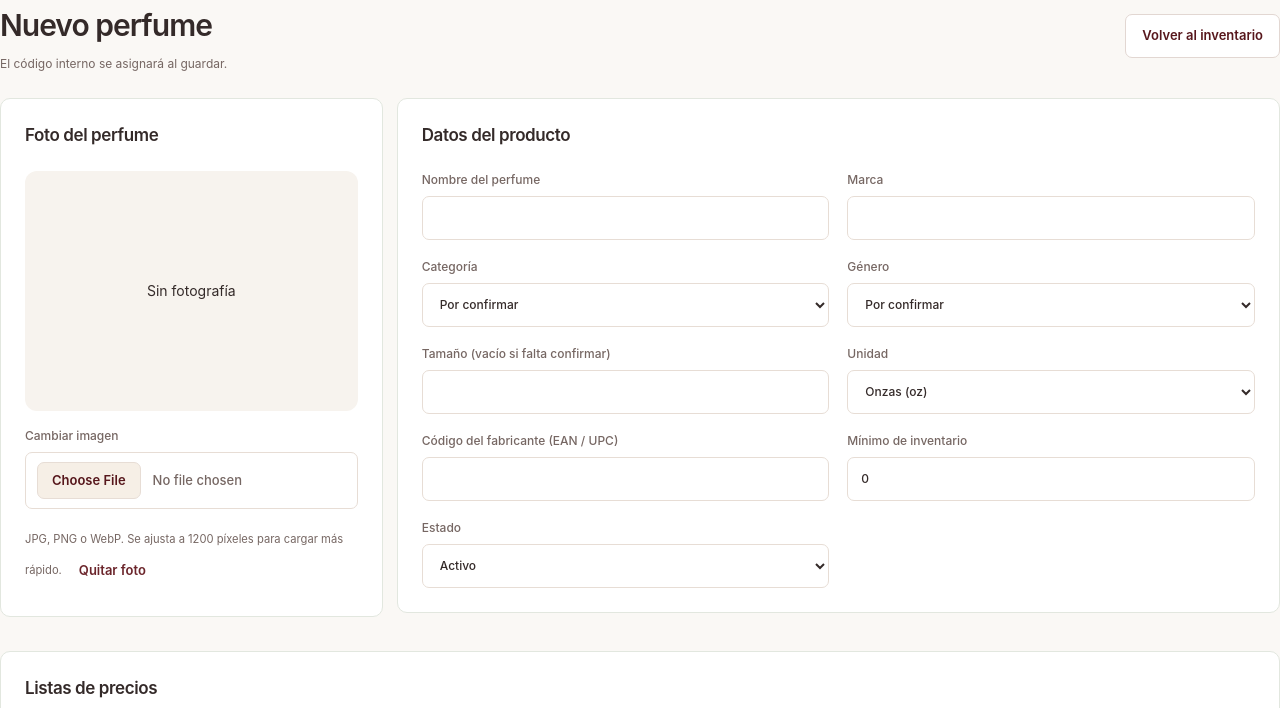
Test case: reloads a newly saved perfume and opens its quantities without a page refresh
This screenshot has width=1280, height=708.
Type "Perfume nuevo" into the field labelled "Nombre del perfume".
click(626, 218); type("Perfume nuevo")  # box x1=422 y1=196 x2=829 y2=240
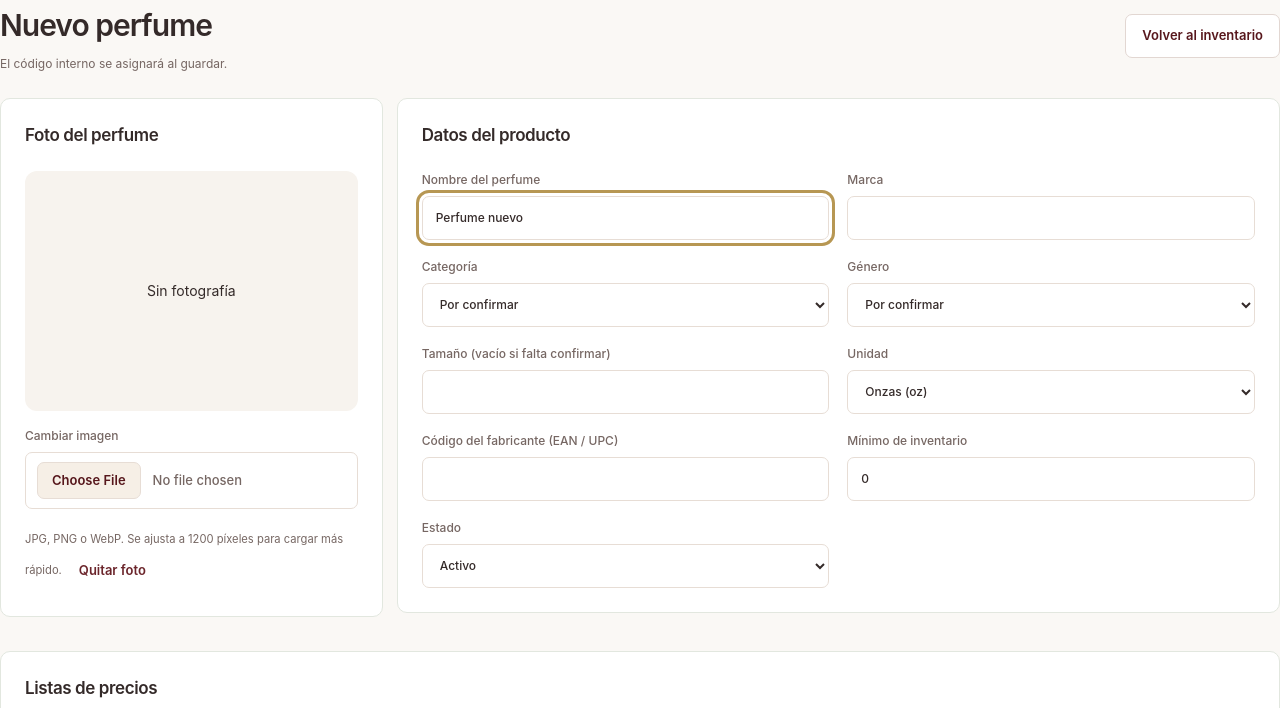
Type "Marca nueva" into the field labelled "Marca".
click(1051, 218); type("Marca nueva")  # box x1=847 y1=196 x2=1255 y2=240
(page scrolled)
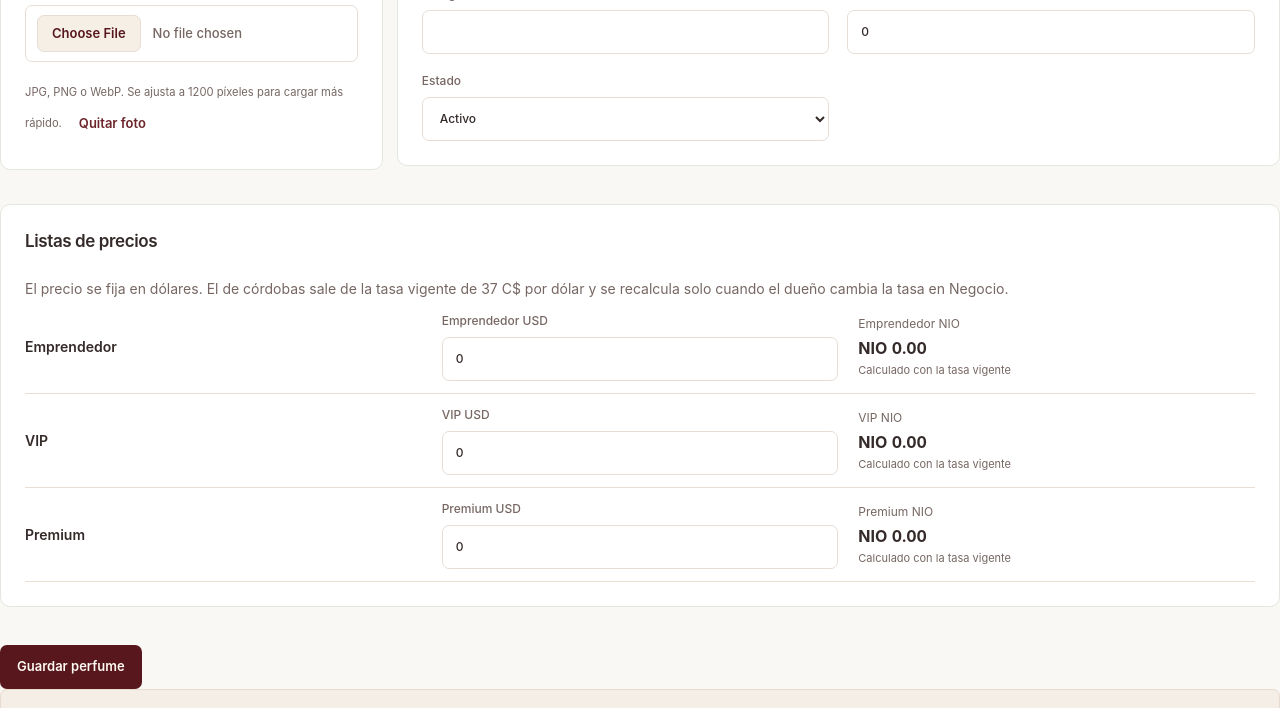
Replace the text in the number field labelled "Emprendedor USD" with "20" at (640,359), box x1=442 y1=337 x2=838 y2=381
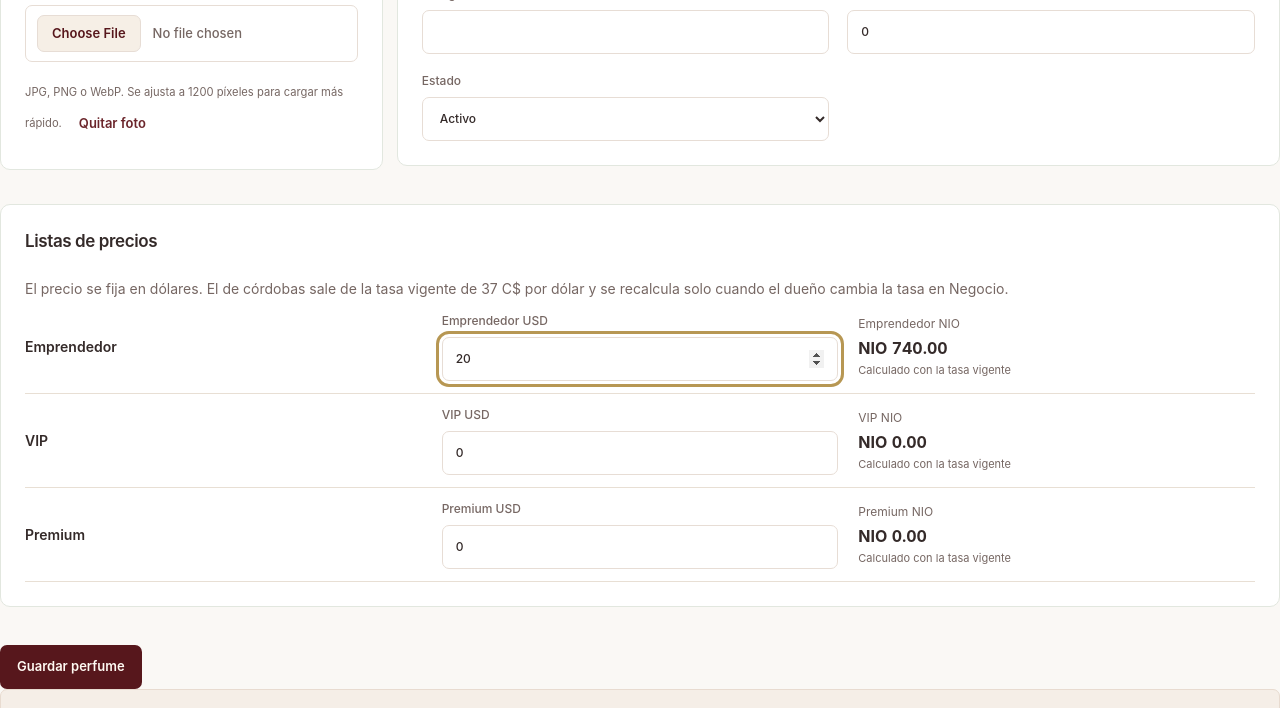
Replace the text in the number field labelled "VIP USD" with "20" at (640,453), box x1=442 y1=431 x2=838 y2=475
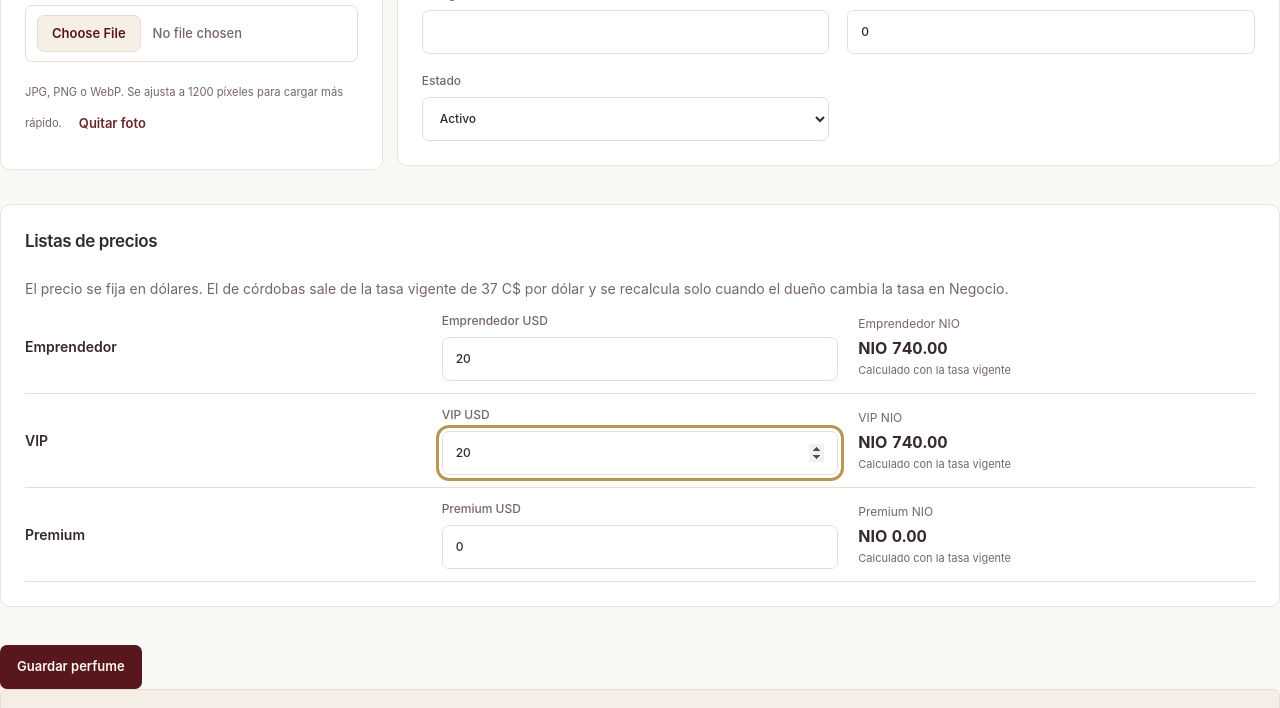
Replace the text in the number field labelled "Premium USD" with "20" at (640,547), box x1=442 y1=525 x2=838 y2=569
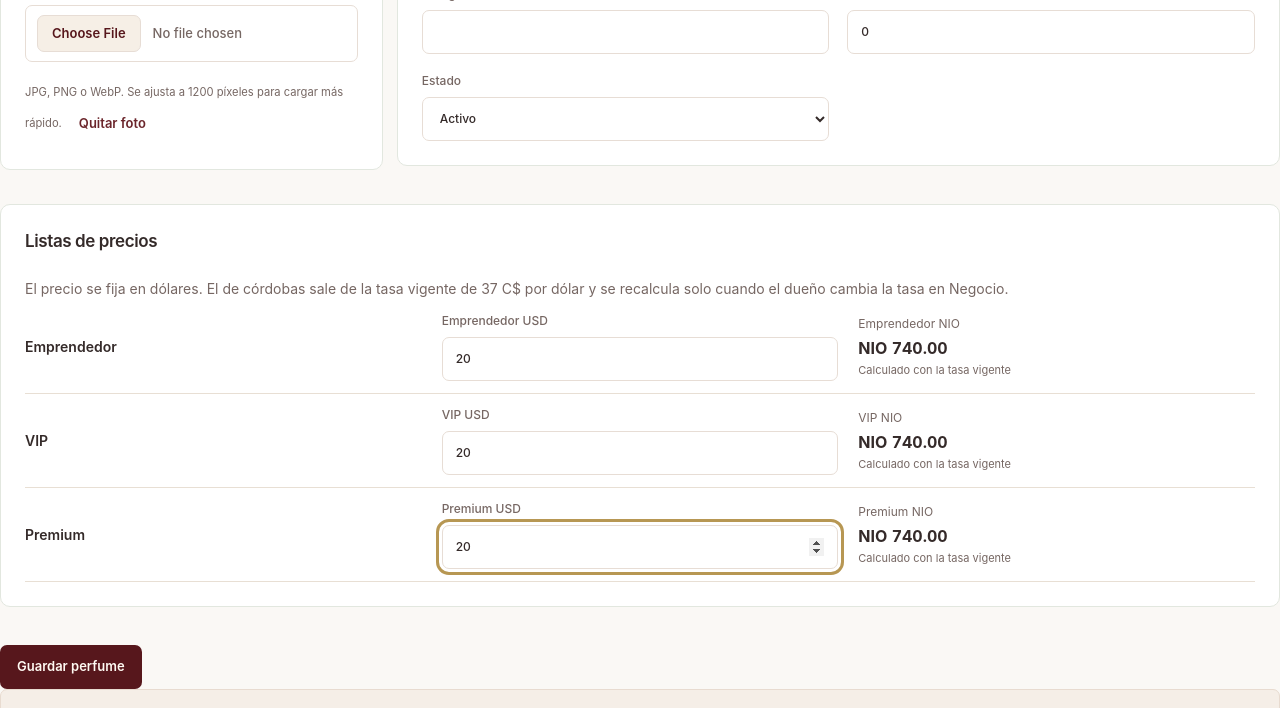
Expected: the text "NIO 740.00" is shown 3 times, x1=858 y1=338 x2=948 y2=358; x1=858 y1=432 x2=948 y2=452; x1=858 y1=526 x2=948 y2=546
Click the button "Guardar perfume".
click(71, 667)  # box x1=0 y1=645 x2=142 y2=689
(page scrolled)
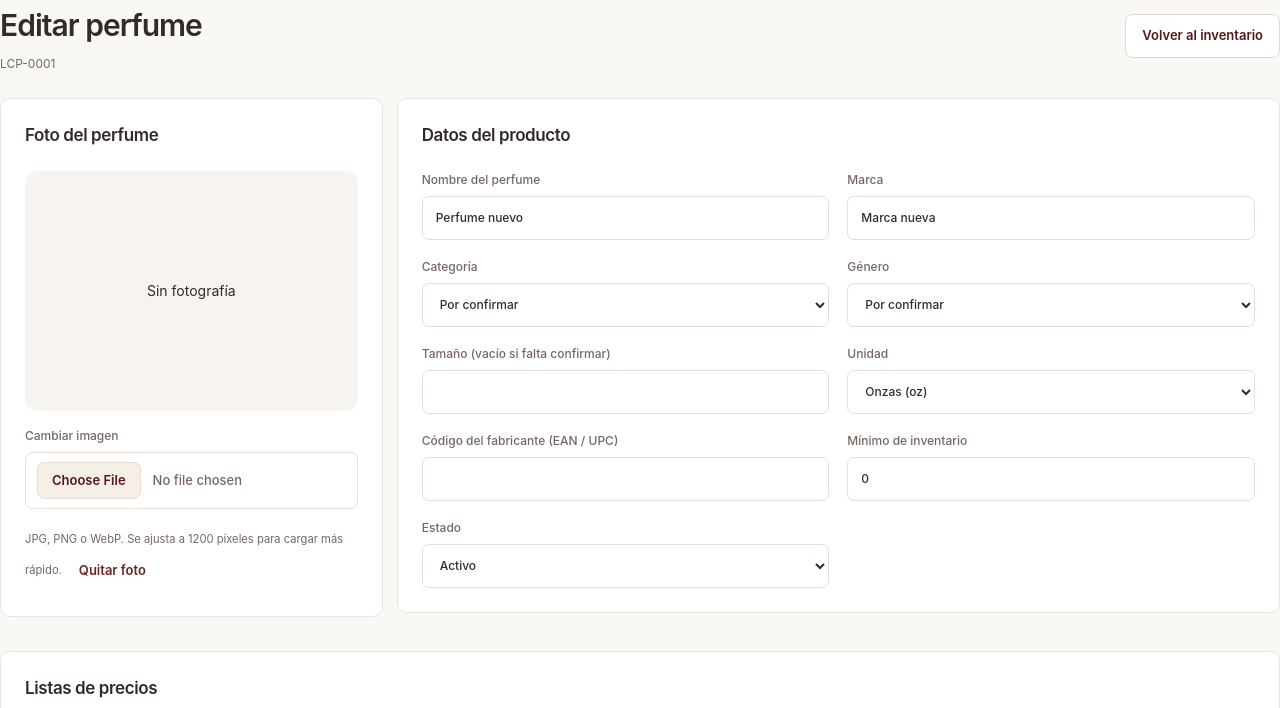
Now the field labelled "Nombre del perfume" holds "Perfume nuevo", box x1=422 y1=196 x2=829 y2=240
